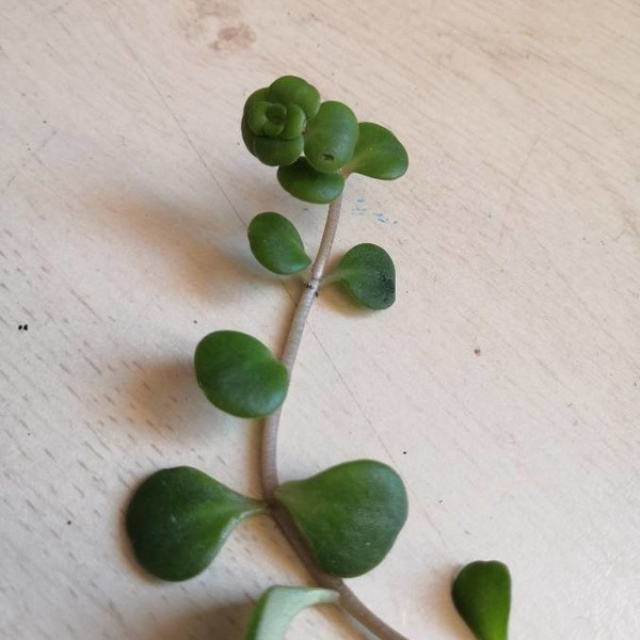obstacle: (115, 66, 495, 602)
